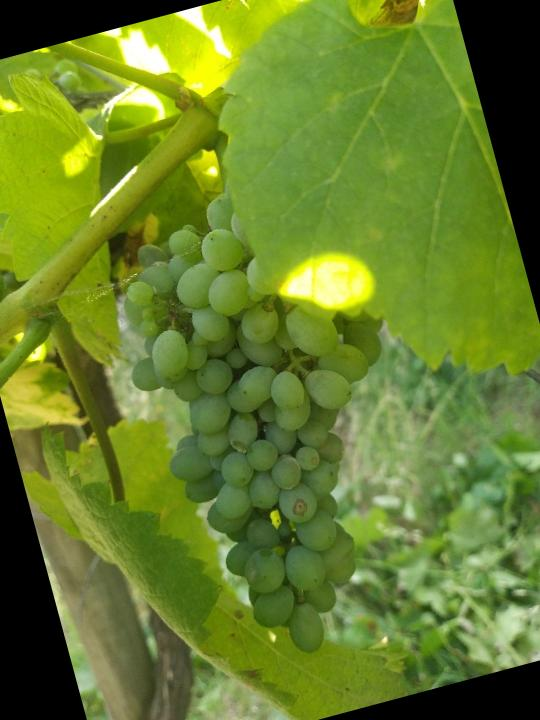grape: (83, 149, 463, 688)
